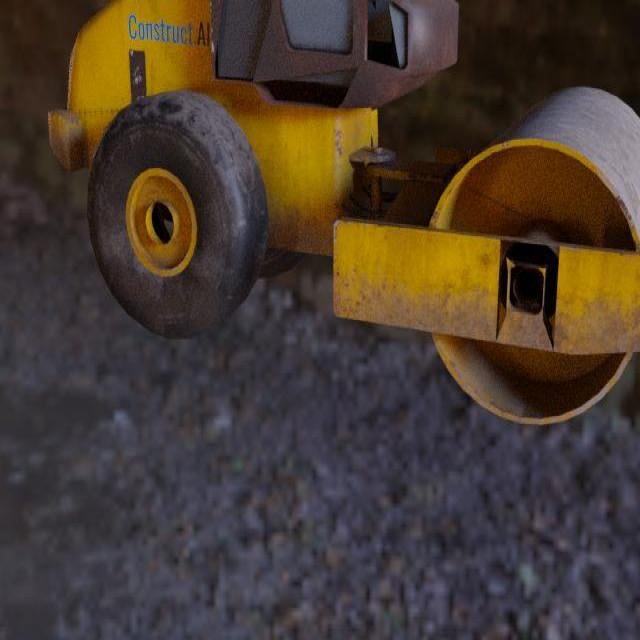Roller: (47, 0, 640, 425)
